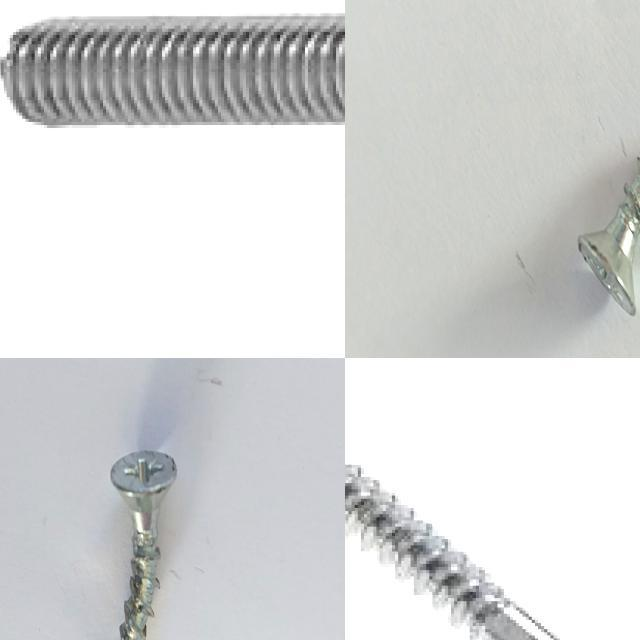Screw: (0, 16, 345, 131), (345, 458, 561, 640), (110, 450, 177, 640), (578, 159, 640, 315)
